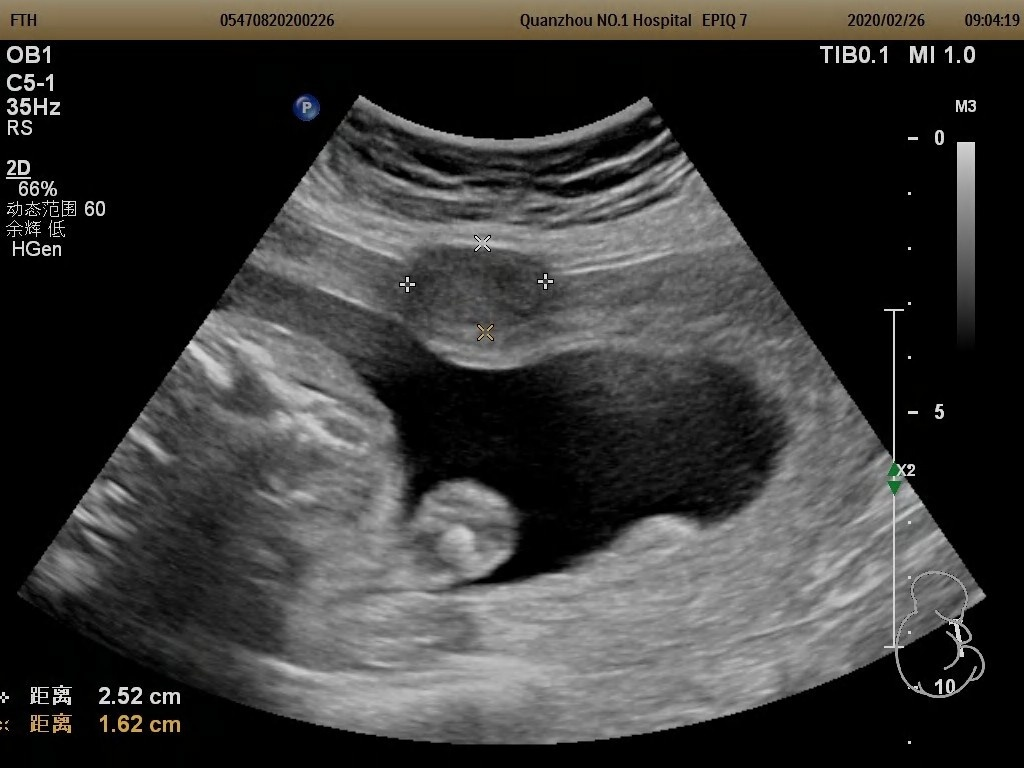肌瘤: (407, 243, 547, 333)
